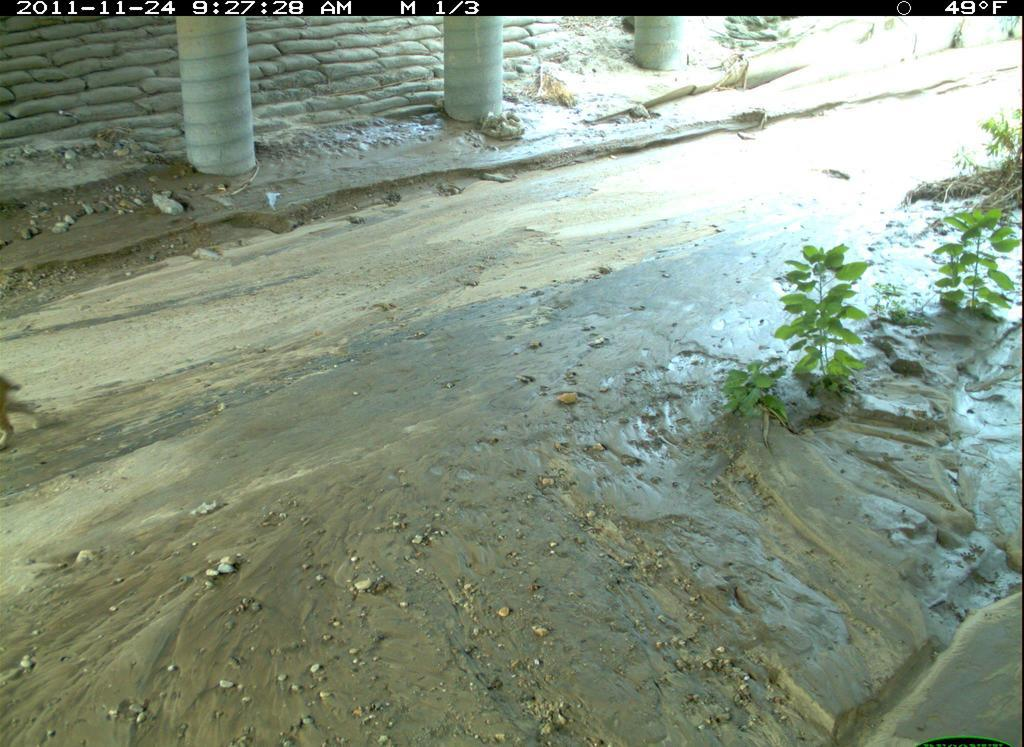bobcat: (1, 367, 48, 461)
